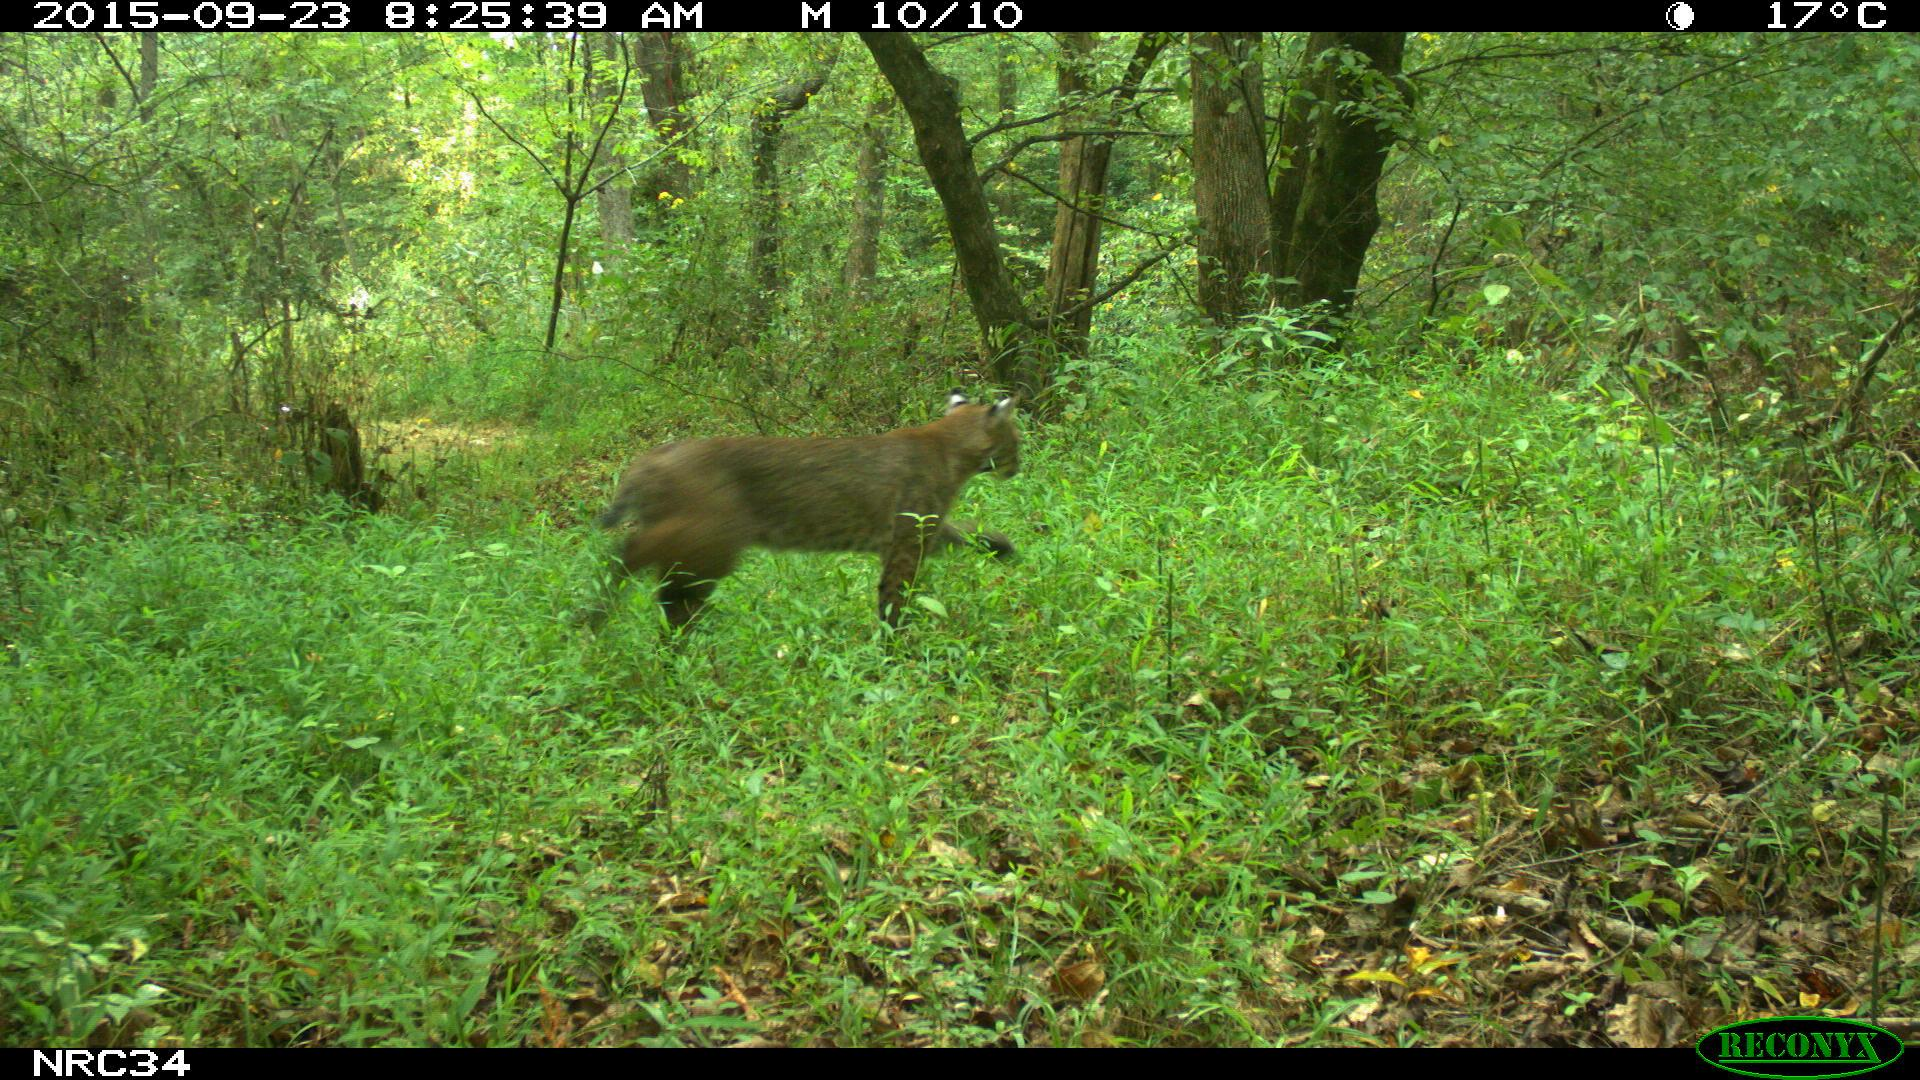Animal: (582, 386, 1027, 654)
